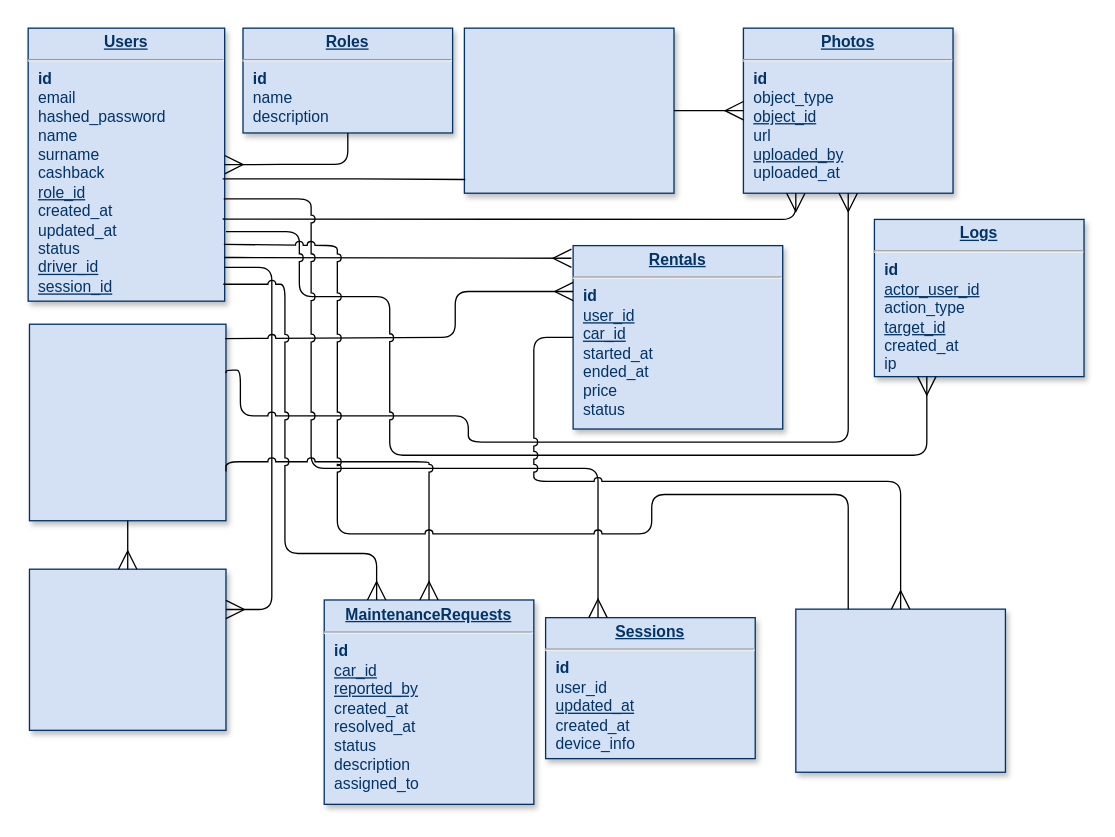
This 1115x837 diagram has some shape labels left out. Here are the shapes that lost their labels. From the top down, the centre of each, then its label:
point (570, 112): Driver id license_number issued_by expiration_date document_photo_id status
point (128, 424): Cars id vin plate_number model status updated_at car_states_id position
point (128, 651): CarsStates id car_id checked_by checked_at verified comment
point (901, 692): PaymentLogs id rental_id user_id pay_type price ip
